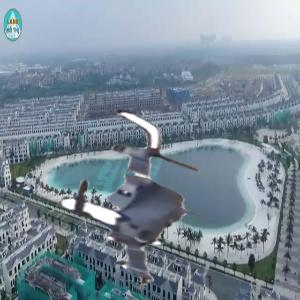drone: (41, 111, 219, 289)
